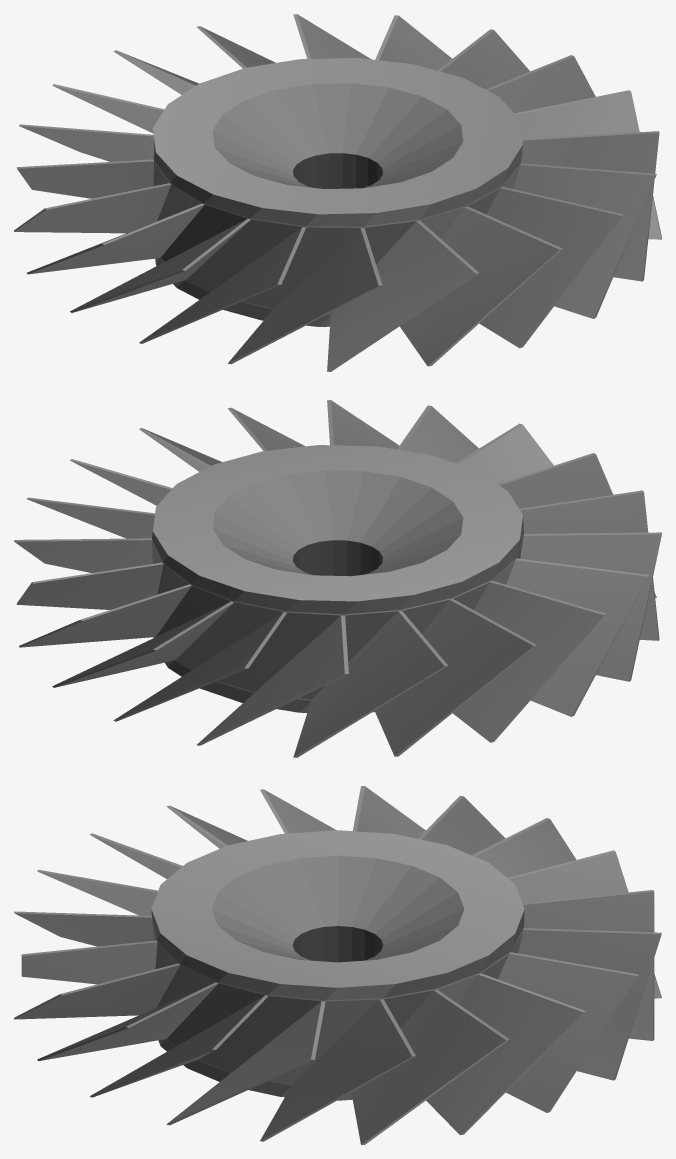
Rendered from SM_Int_Turbine.fbx.
3 views of the same model, one above another, from view 1: azimuth 30°, elevation 25°; view 2: azimuth 150°, elevation 25°; view 3: azimuth 270°, elevation 25° (orthographic).
Visible parts, largest first — view 1: SM_Int_Turbine; view 2: SM_Int_Turbine; view 3: SM_Int_Turbine.
Boxes of the visible parts, x1,y1,x2,y2 form: SM_Int_Turbine: (14, 14, 661, 371); SM_Int_Turbine: (14, 400, 661, 757); SM_Int_Turbine: (14, 786, 661, 1144).
Size of the model in its own units: 1 by 0.1923 by 1.
1 material, 1 textured.
